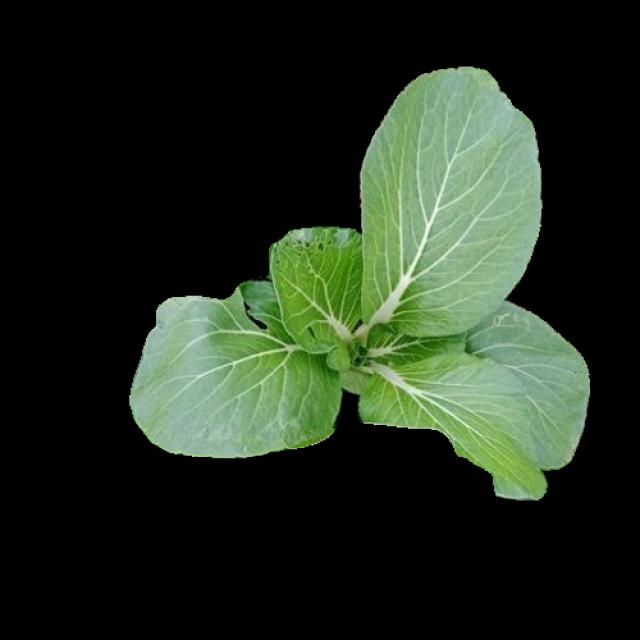mature: (130, 69, 600, 501)
unhealthy: (467, 307, 589, 466), (268, 228, 366, 349)
